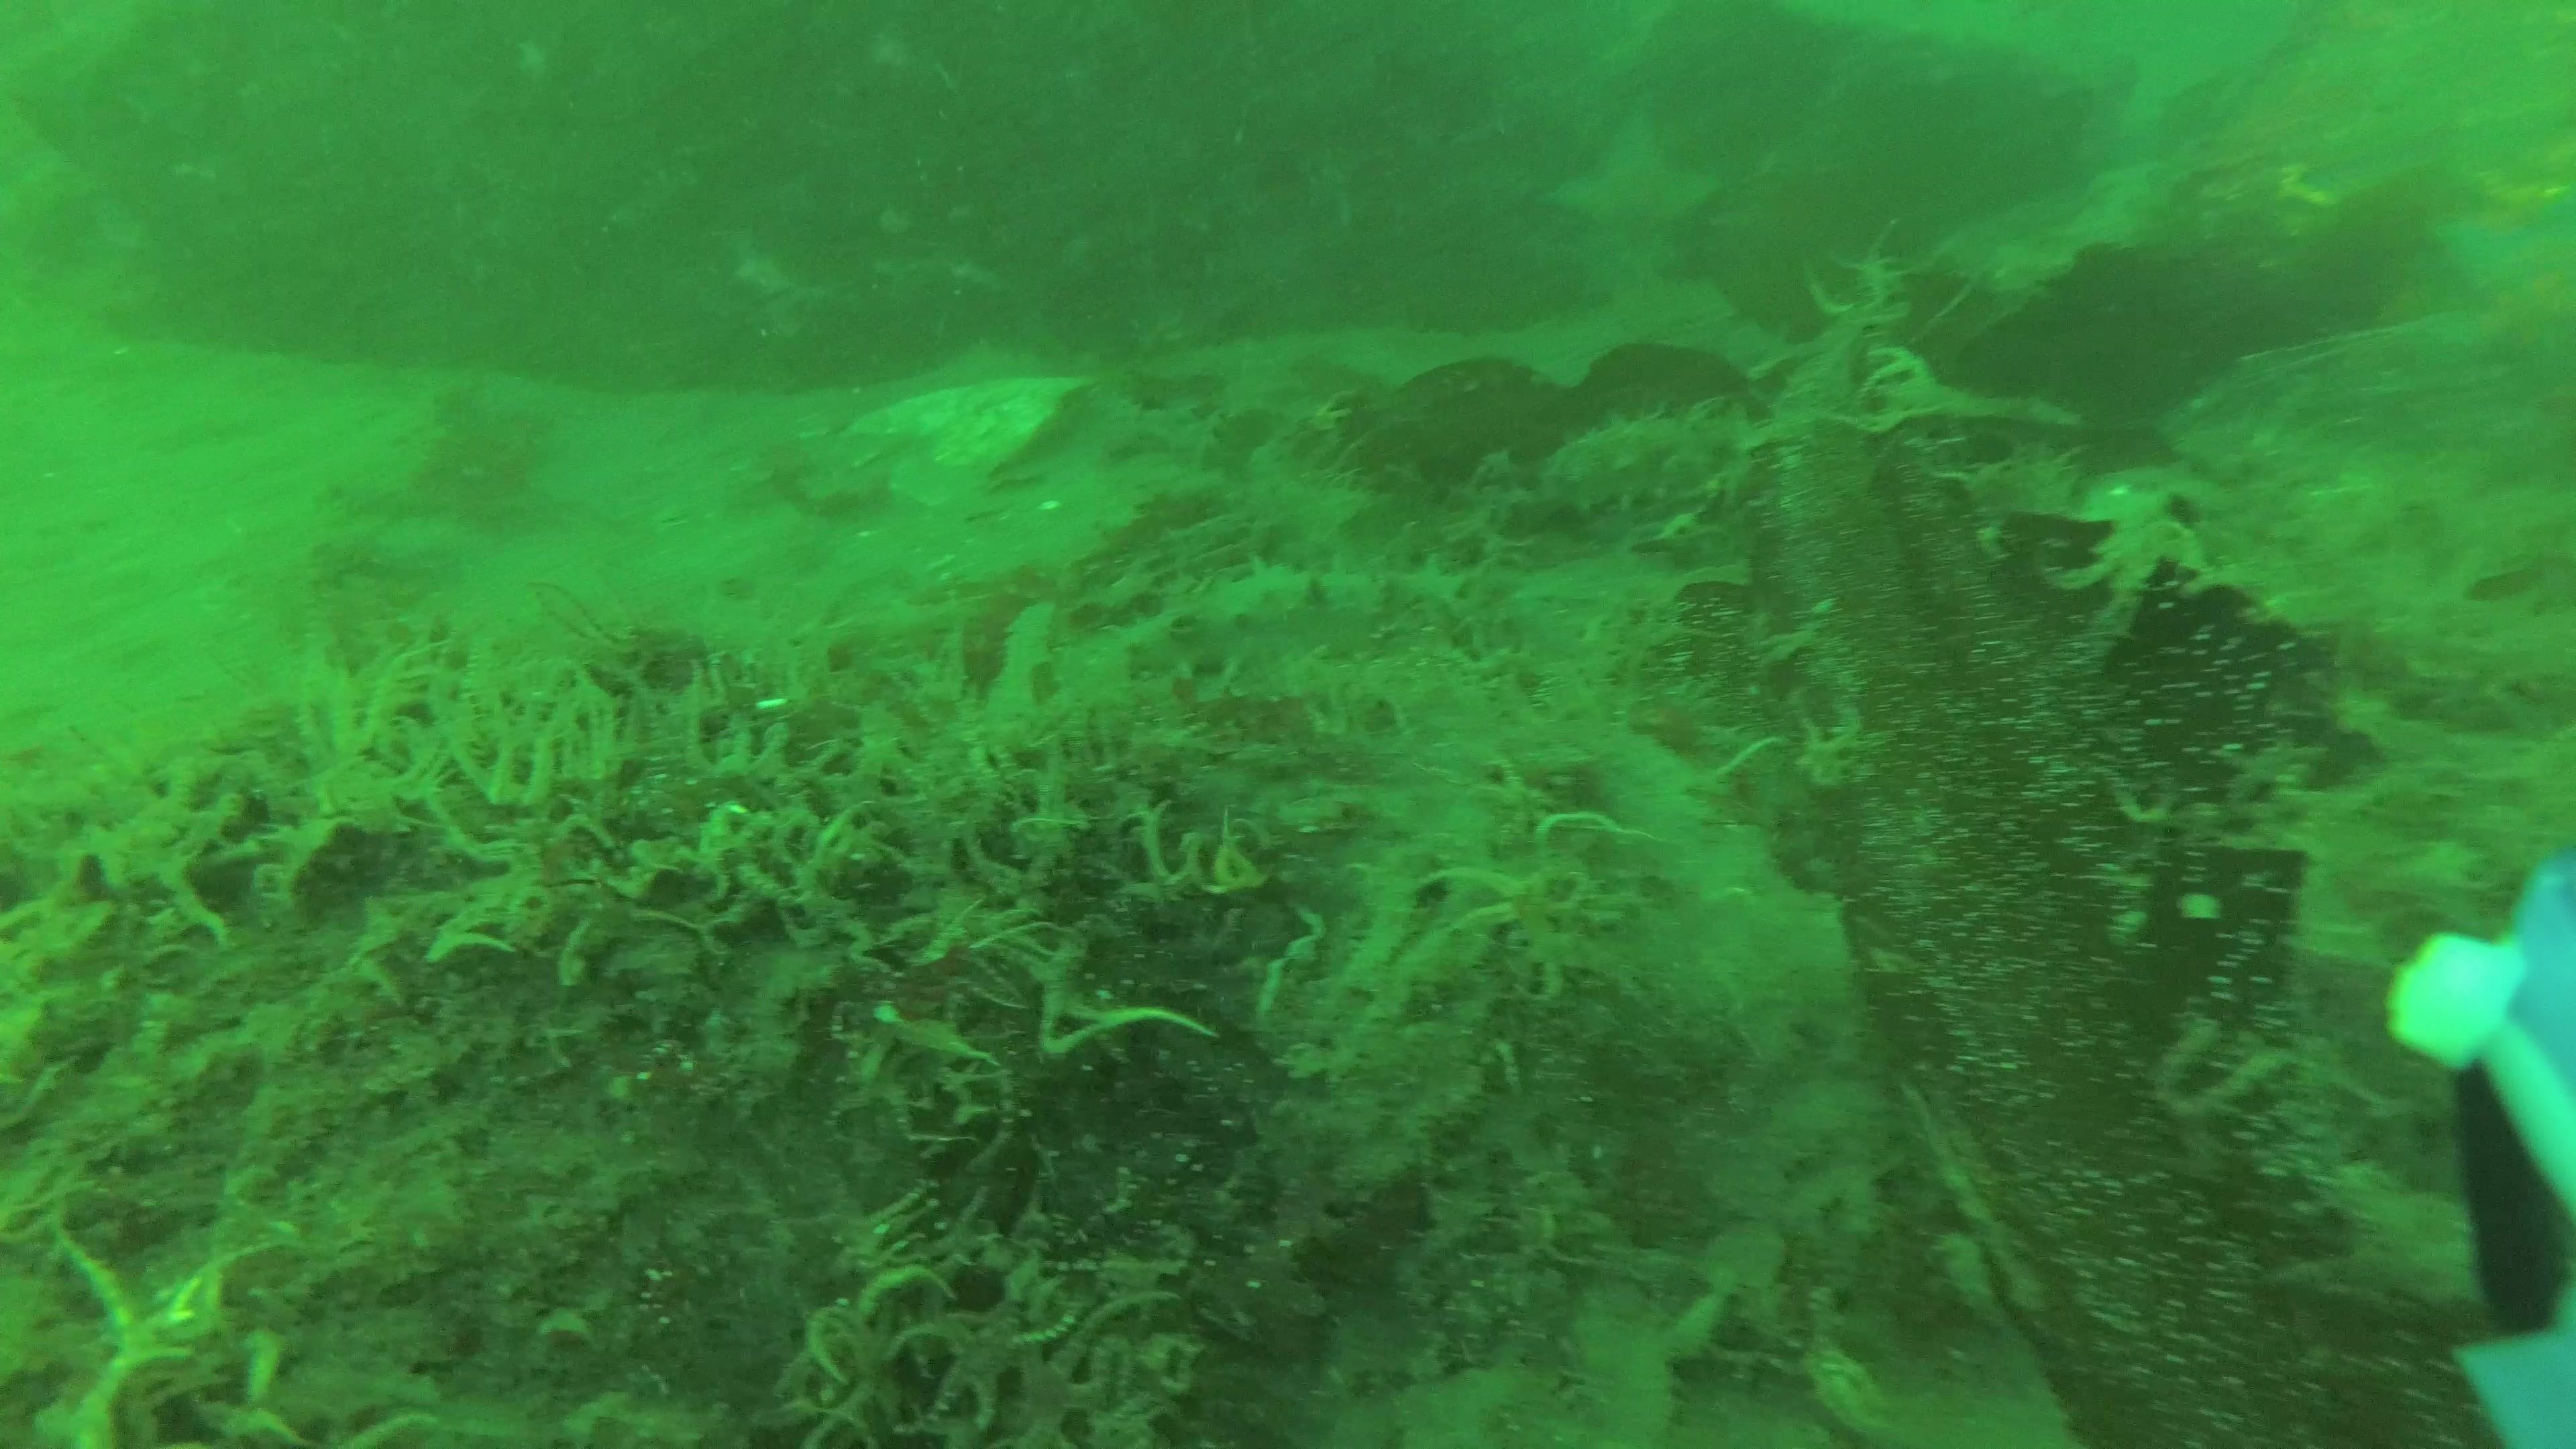holothurian: (1100, 548, 1488, 688), (1534, 410, 1787, 518)
starfish: (1541, 103, 1718, 287)
